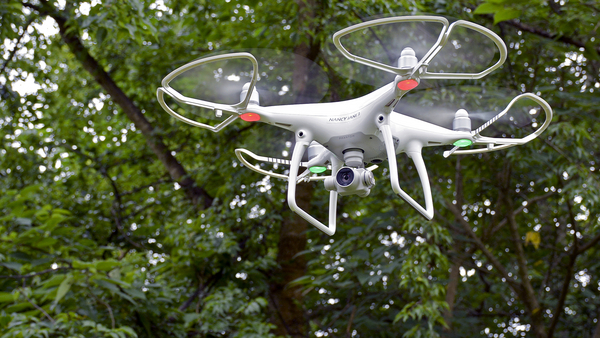drone: (154, 14, 555, 237)
